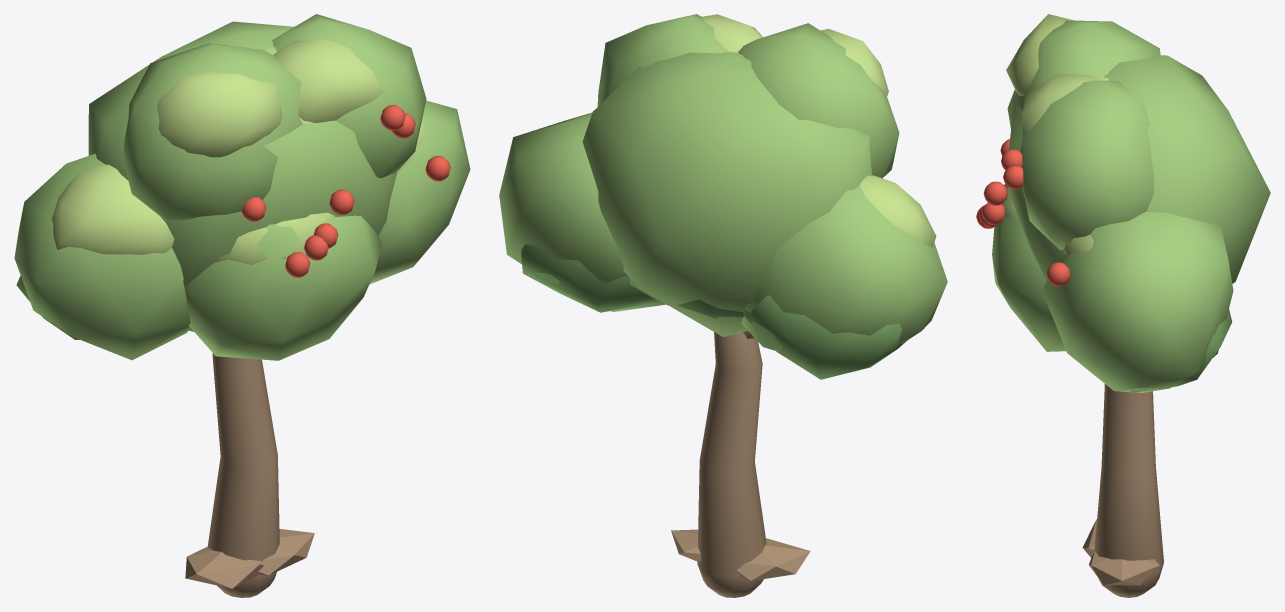
The model's file is bg_tree.glb.
3 views of the same model, side by side, from view 1: azimuth 30°, elevation 25°; view 2: azimuth 150°, elevation 25°; view 3: azimuth 270°, elevation 25° (orthographic). The views are drawn at different scales.
Visible parts, largest first — view 1: bg_tree; view 2: bg_tree; view 3: bg_tree.
Boxes of the visible parts, left/top/right/bottom form: bg_tree: left=14, top=14, right=470, bottom=597; bg_tree: left=499, top=14, right=947, bottom=597; bg_tree: left=976, top=14, right=1270, bottom=597.
Bounding box in the file's own units: 3.51 × 4.45 × 2.17.
